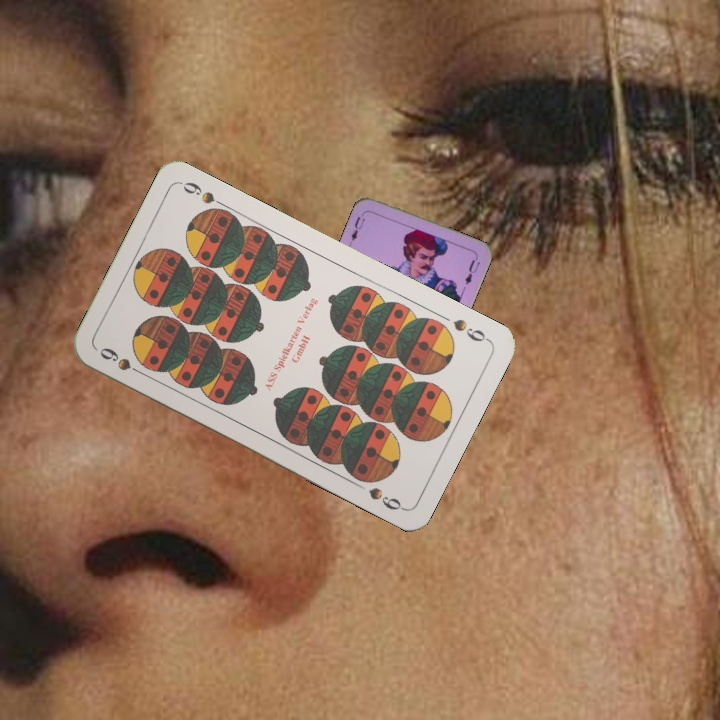EU: (347, 208, 368, 246)
S9: (95, 343, 149, 379), (449, 315, 492, 345)
